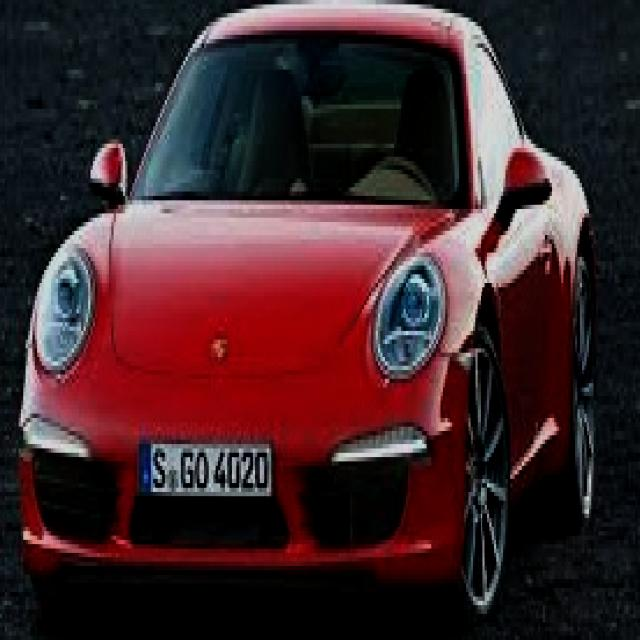red: (22, 1, 594, 580)
